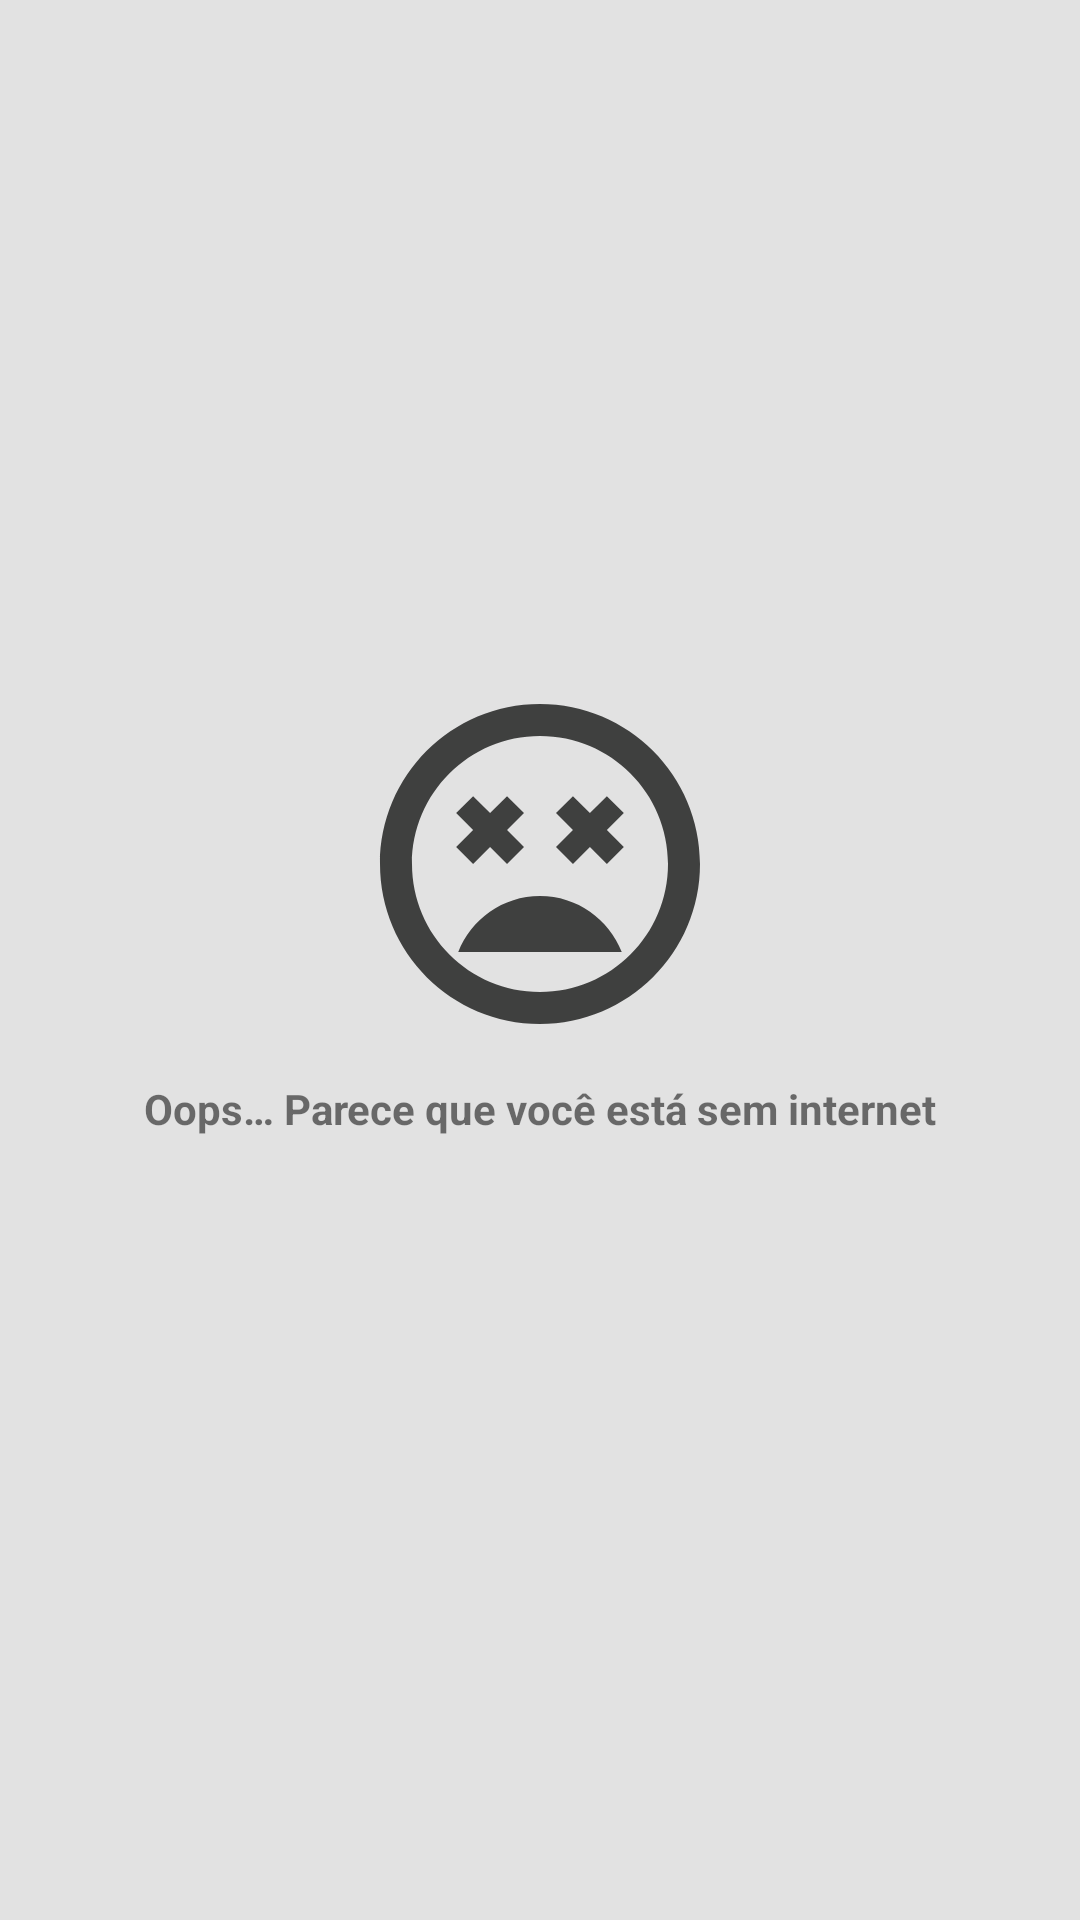

Icon bounding boxes for this 1080 x 1920 phone screenshot, format (x1,y1,x2,y2):
sentiment very dissatisfied: (380,704,700,1024)
